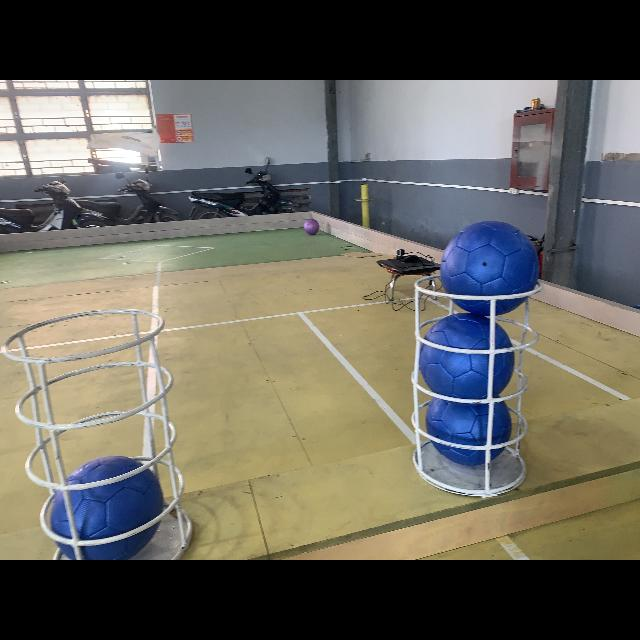B: (50, 456, 164, 560), (442, 220, 538, 314), (417, 312, 513, 398), (426, 394, 512, 464)
